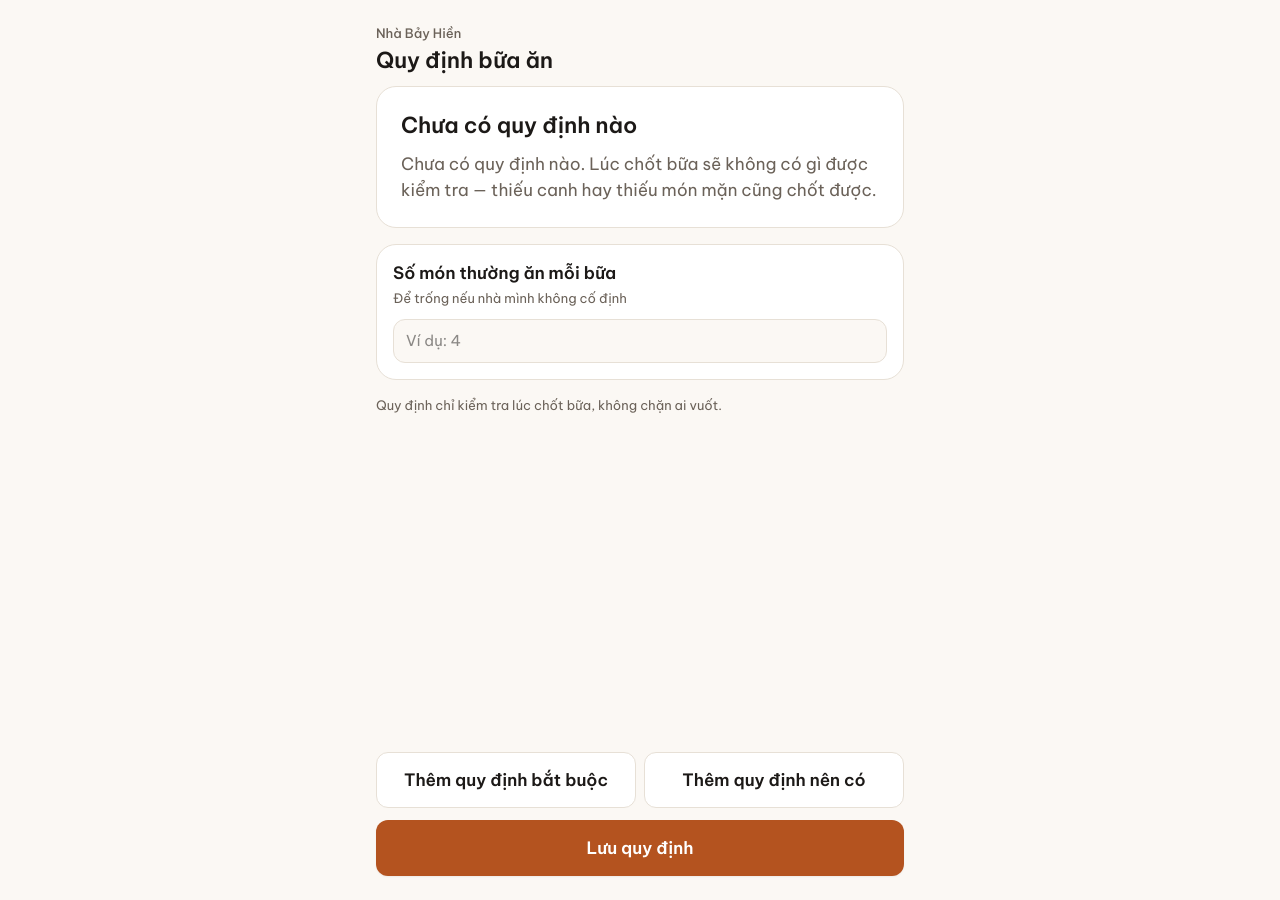
Scenario: GroupRulesScreen (S-07 + E10-T1) › E10-T1 §1.5: mở sheet thêm quy định, chip hiển thị tên nhãn món đúng chuẩn ("món canh")
Click the button "Thêm quy định bắt buộc". click: (506, 780)
box: [376,752,636,808]
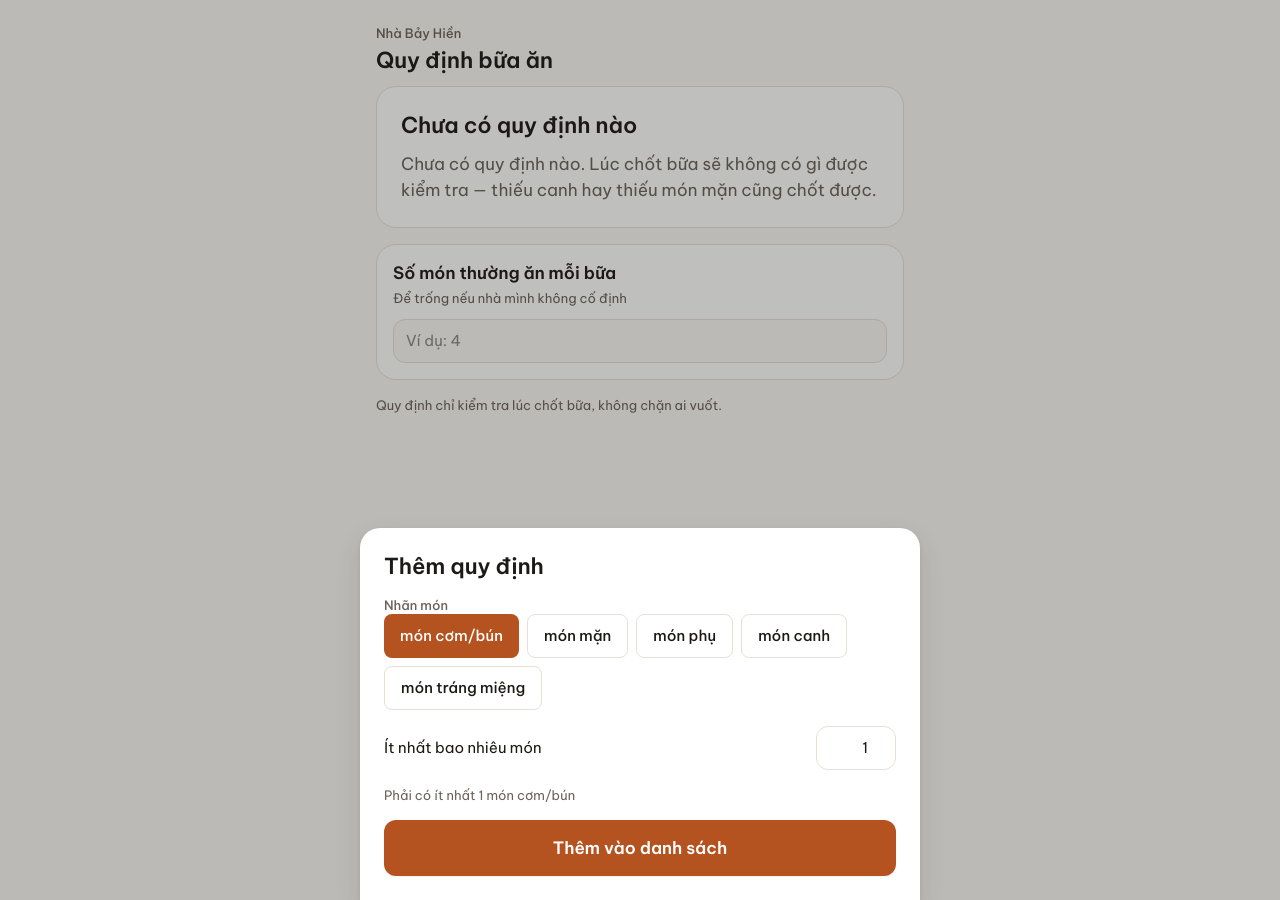
Note: Thay đổi minimumCount lên 2
Replace the text in the number field labelled "Ít nhất bao nhiêu món" with "2". click: (856, 748)
box: [816,726,896,770]
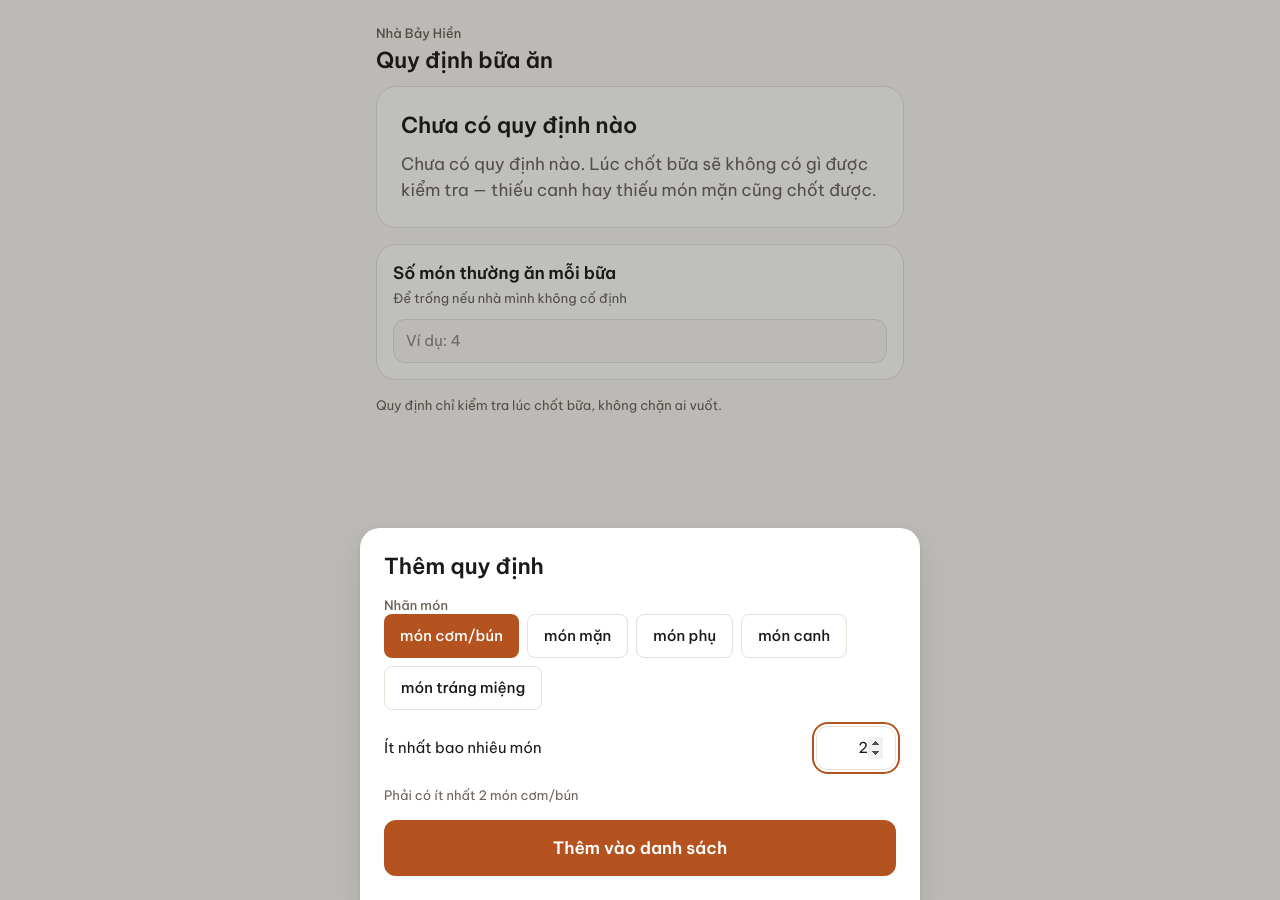
expect the radio button "món canh" is shown: met, box [741,614,847,658]
expect the text "Phải có ít nhất 2 món cơm/bún" is shown: met, box [384,787,579,803]
